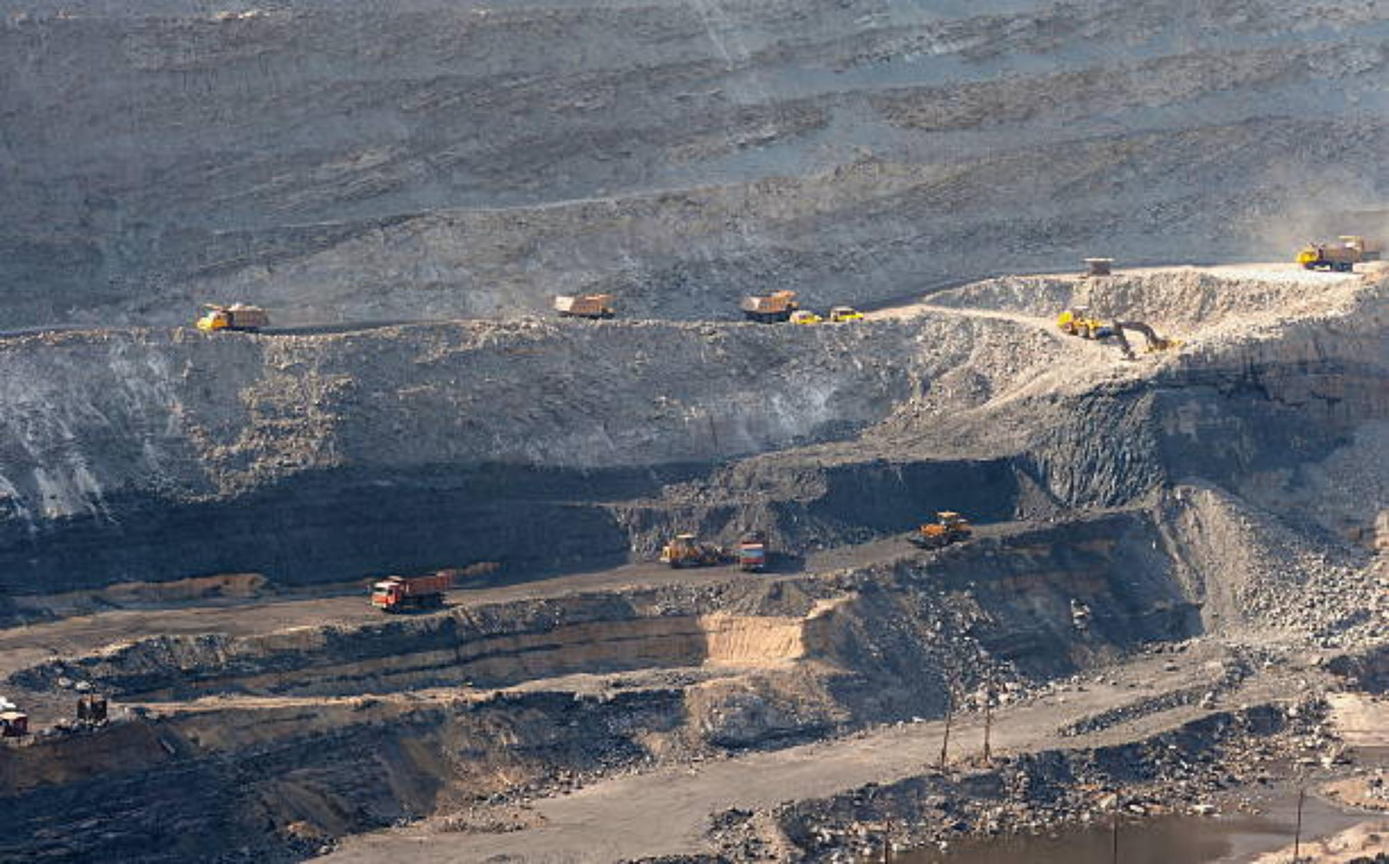excavator: (1063, 299, 1182, 357), (925, 490, 976, 550), (664, 528, 730, 571)
truck: (371, 560, 480, 613), (183, 293, 274, 346), (732, 284, 802, 331), (564, 278, 617, 327), (738, 530, 779, 581)
wall: (0, 0, 1239, 284), (797, 513, 1210, 722)
